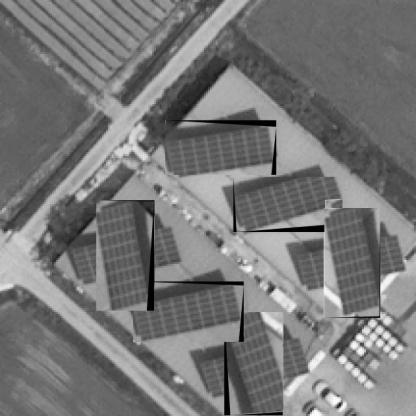solar-pv-panel: (133, 285, 241, 342), (324, 208, 380, 317), (225, 312, 283, 415), (235, 177, 343, 232), (96, 201, 150, 311), (165, 125, 274, 175)
